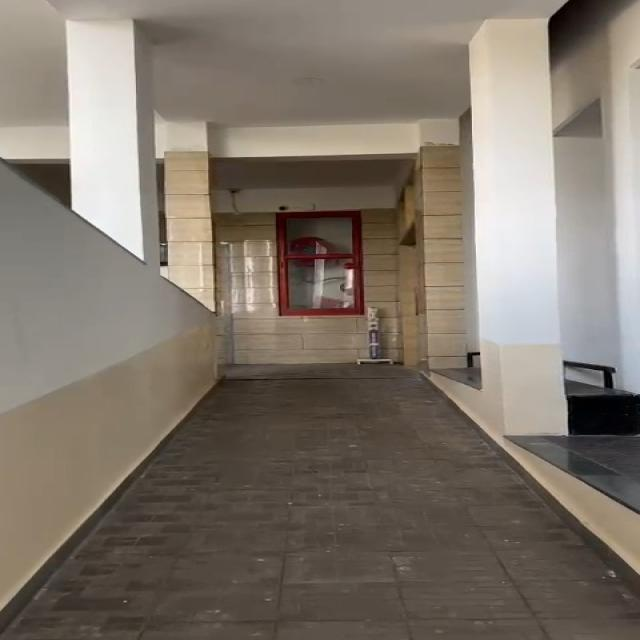door: (262, 198, 385, 335)
floor: (251, 383, 489, 640)
wall: (0, 0, 265, 534), (424, 54, 640, 506)
